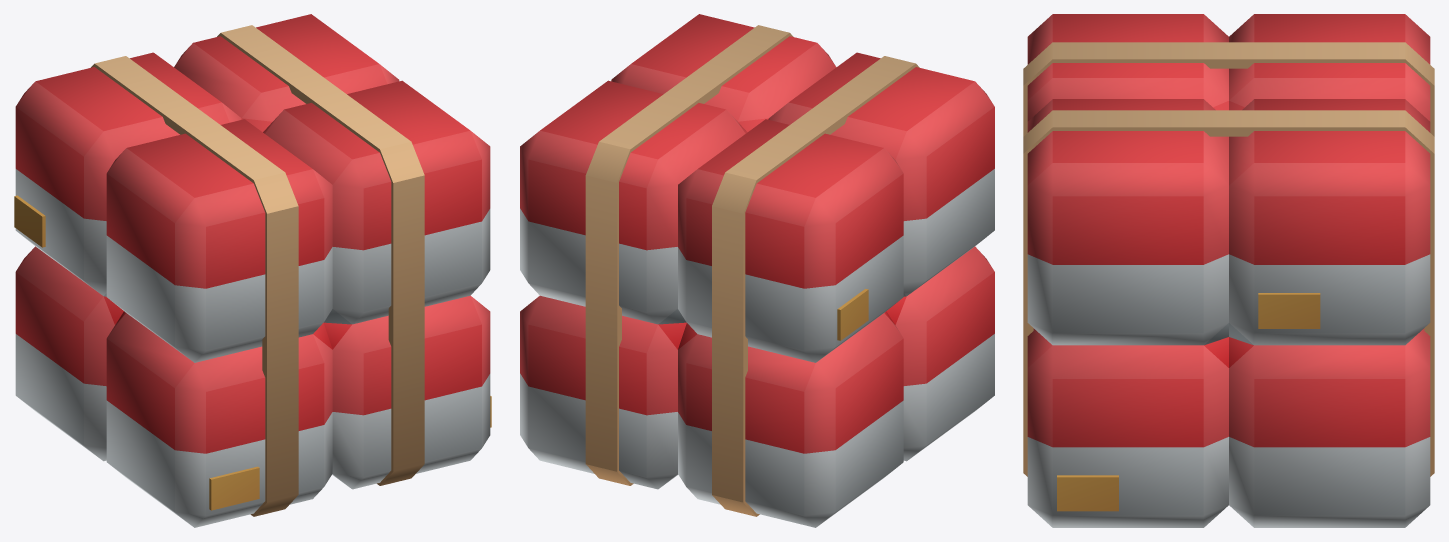
Rendered from kaykit_cargo_a_stacked_v01.glb.
3 renders of one model, left to right at view 1: azimuth 30°, elevation 25°; view 2: azimuth 150°, elevation 25°; view 3: azimuth 270°, elevation 25°, orthographic. The views are drawn at different scales.
Parts seen in each view (by area): view 1: cargo_A_stacked; view 2: cargo_A_stacked; view 3: cargo_A_stacked.
Boxes of the visible parts, x1,y1,x2,y2 form: cargo_A_stacked: [14, 14, 491, 527]; cargo_A_stacked: [520, 14, 994, 527]; cargo_A_stacked: [1023, 14, 1434, 527].
Bounding box in the file's own units: 1.02 × 1.02 × 1.02.
1 material, 1 textured.
